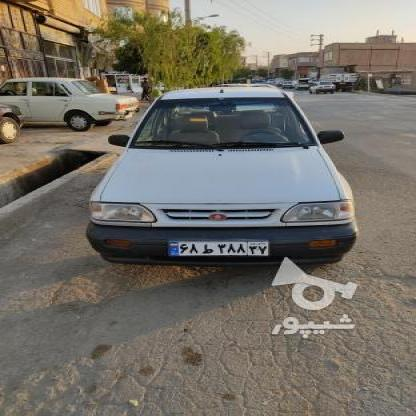licence: (166, 240, 266, 255)
